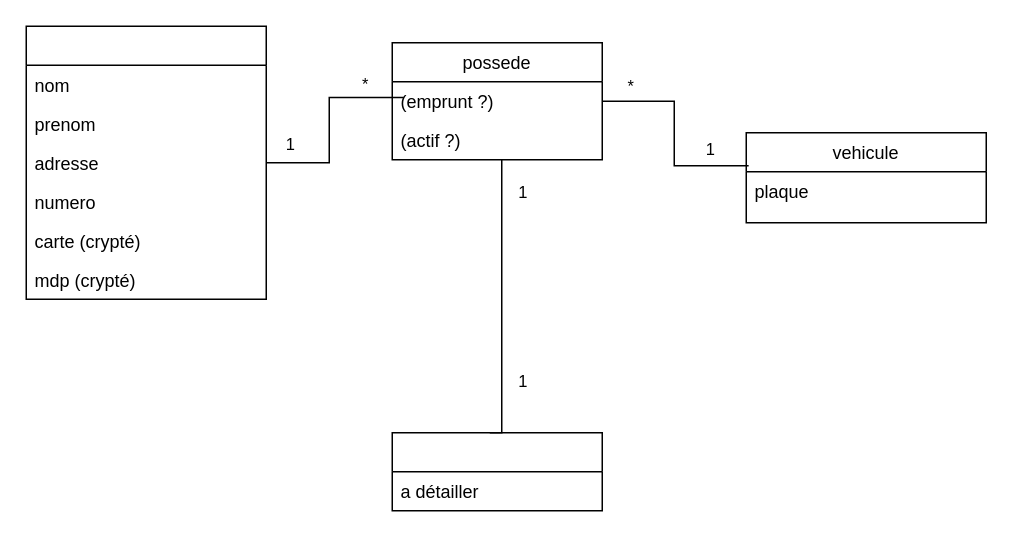
Image size: 1013x542. Some labels were removed from this diagram. The box of each missing label's shape, as (x1, y1, x2, y2) in pixels:
client: (25, 25, 266, 299)
Réservation: (391, 431, 602, 511)
